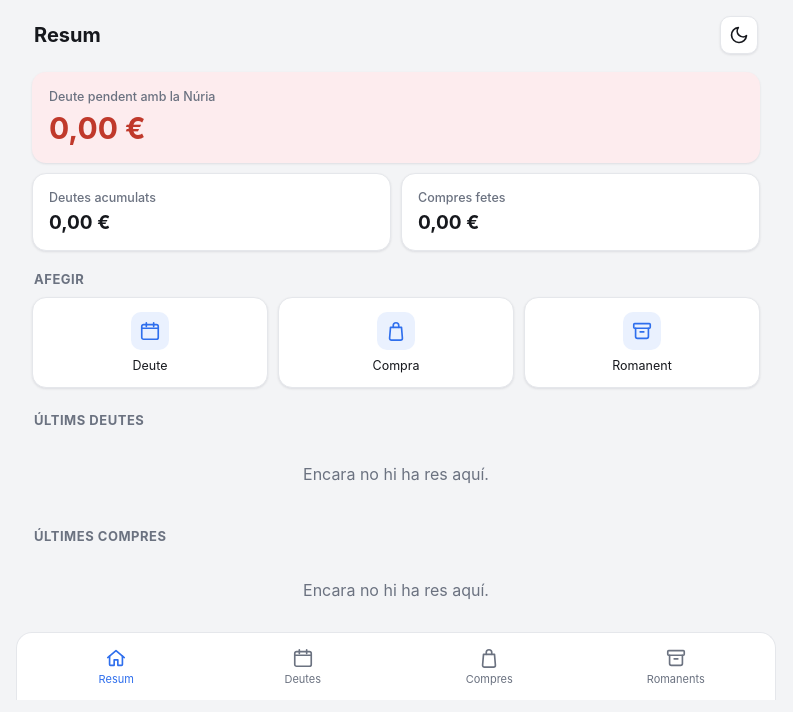
Test case: App (integració) › navega a Compres en clicar la targeta "Compres fetes"
Click the text "Compres fetes" at (462, 198), box [418,190,506,205]
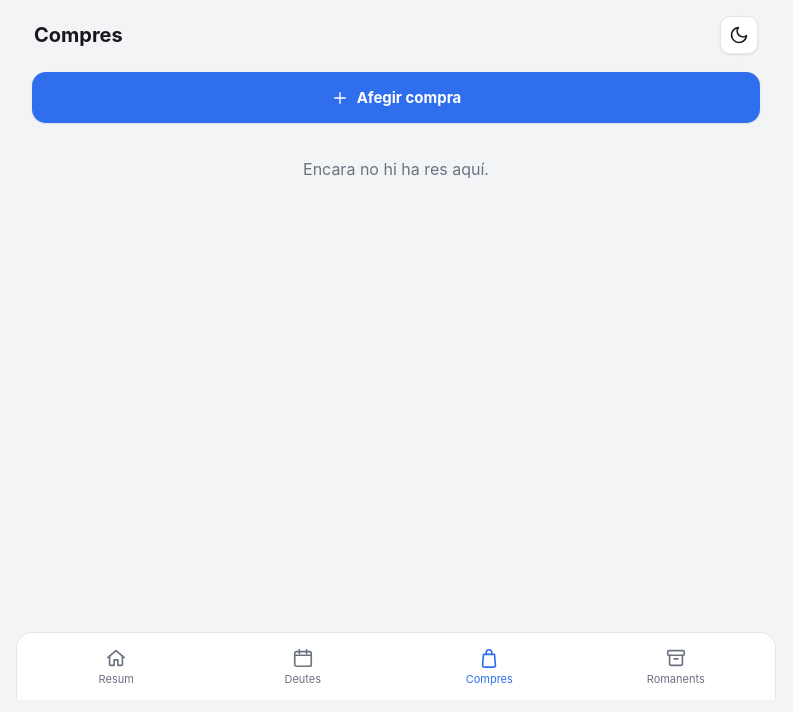
Expected: the heading "Compres" is shown, [34,23,123,47]
